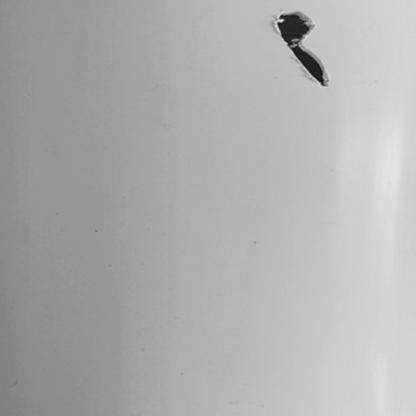kongdong: (273, 10, 330, 91)
